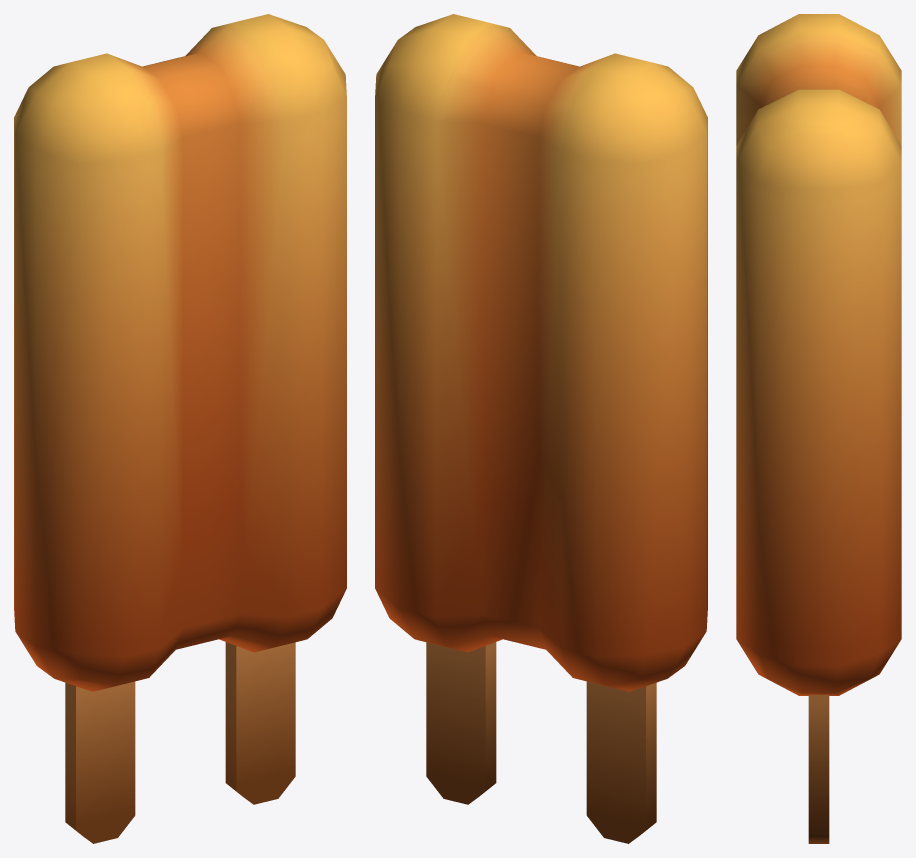
Rendered from m_DoublePopsicle09.fbx.
The picture shows the model from 3 angles, left to right: view 1: azimuth 30°, elevation 25°; view 2: azimuth 150°, elevation 25°; view 3: azimuth 270°, elevation 25°; orthographic projection. The views are drawn at different scales.
Parts seen in each view (by area): view 1: m_DoublePopsicle09_L, m_DoublePopsicle09_R; view 2: m_DoublePopsicle09_L, m_DoublePopsicle09_R; view 3: m_DoublePopsicle09_R, m_DoublePopsicle09_L.
Boxes of the visible parts, box(x1,y1,x2,y2) form: m_DoublePopsicle09_L: box(14, 53, 211, 843); m_DoublePopsicle09_R: box(159, 14, 346, 804); m_DoublePopsicle09_L: box(510, 53, 707, 843); m_DoublePopsicle09_R: box(375, 14, 562, 804); m_DoublePopsicle09_R: box(736, 80, 901, 843); m_DoublePopsicle09_L: box(736, 14, 901, 145).
Bounding box in the file's own units: 9.64 × 22.99 × 4.64.
